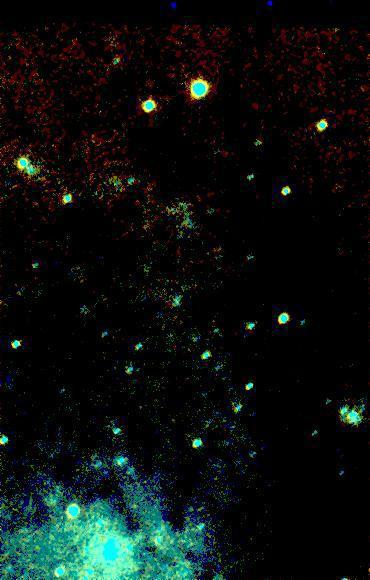star: (125, 490, 155, 520)
